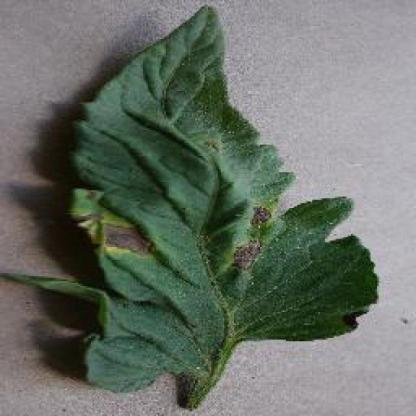Tomato_Blight: (8, 5, 377, 390)
